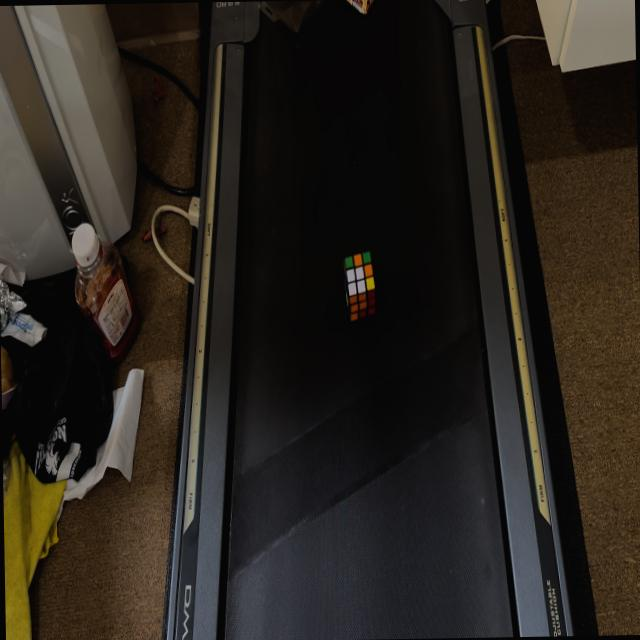Trash: (344, 251, 378, 326)
